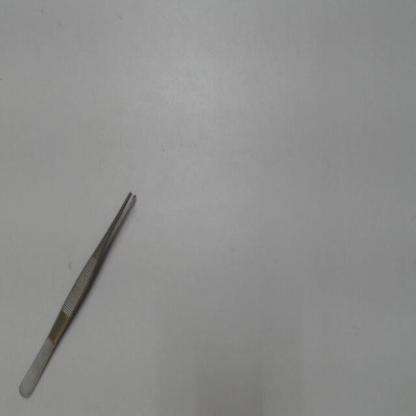Gillies Toothed Dissector: (12, 186, 149, 408)
